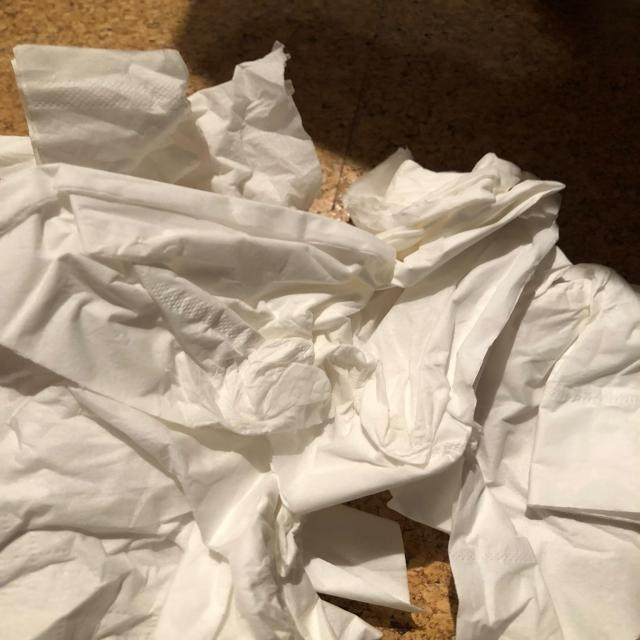kitchen paper: (0, 344, 433, 640), (229, 145, 575, 514), (0, 130, 404, 439), (383, 242, 640, 636), (4, 36, 323, 217)
